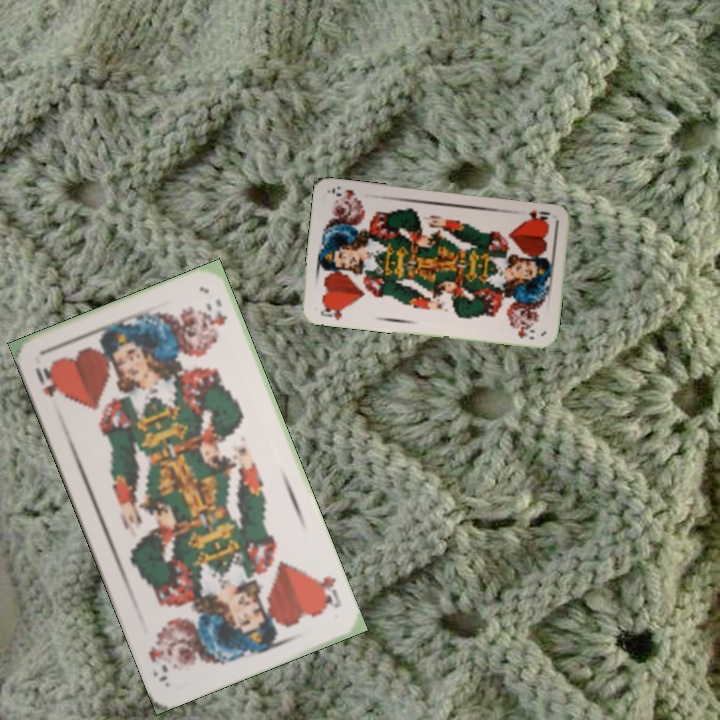HO: (309, 572, 344, 611), (31, 362, 65, 400), (316, 301, 348, 322), (523, 206, 553, 225)
